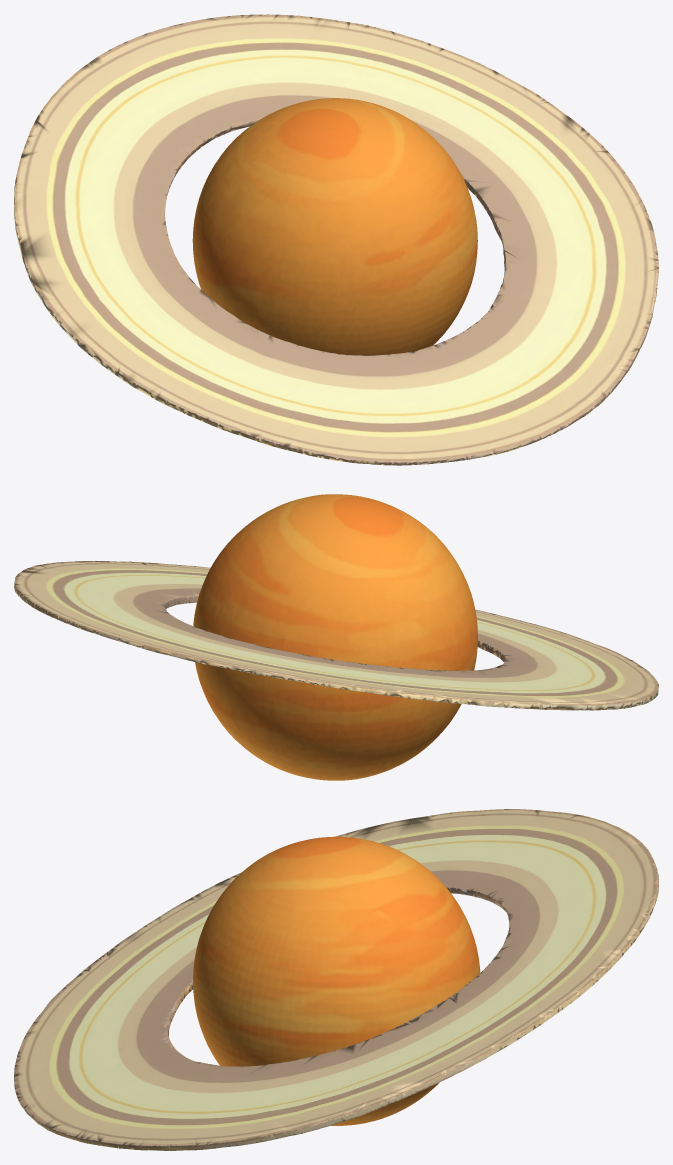
Rendered from saturn.glb.
3 renders of one model, top to bottom at view 1: azimuth 30°, elevation 25°; view 2: azimuth 150°, elevation 25°; view 3: azimuth 270°, elevation 25°, orthographic.
Visible parts, largest first — view 1: tripo_node_dee71165-2a08-4bfd-b5e8-10879c43cddd; view 2: tripo_node_dee71165-2a08-4bfd-b5e8-10879c43cddd; view 3: tripo_node_dee71165-2a08-4bfd-b5e8-10879c43cddd.
Part boxes in pixels (x1,y1,x2,y2): tripo_node_dee71165-2a08-4bfd-b5e8-10879c43cddd: (14, 14, 658, 465); tripo_node_dee71165-2a08-4bfd-b5e8-10879c43cddd: (14, 494, 658, 780); tripo_node_dee71165-2a08-4bfd-b5e8-10879c43cddd: (14, 809, 658, 1150).
Size of the model in its own units: 1 by 0.4342 by 0.9669.
Materials: 1 (1 with a texture image).
